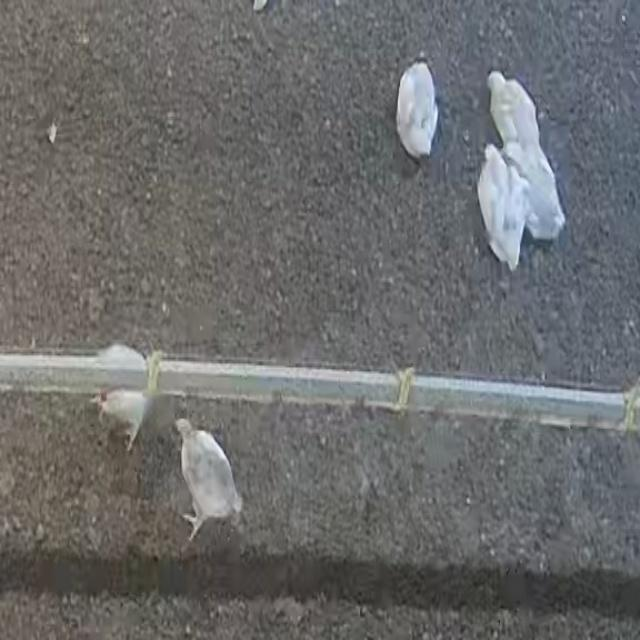chicken: (171, 417, 247, 543), (474, 144, 527, 272), (481, 62, 548, 152), (394, 56, 441, 165)
